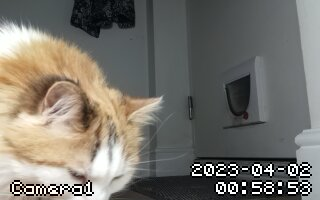clara: (1, 25, 163, 197)
